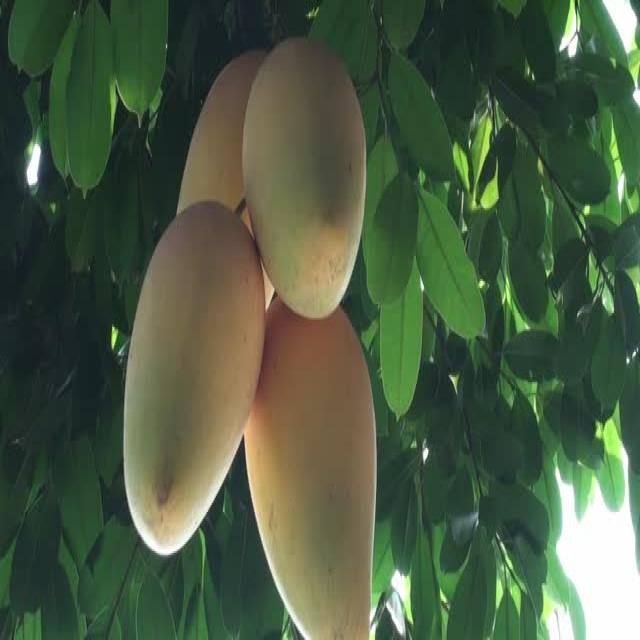mango: (124, 204, 265, 554), (245, 298, 376, 637), (242, 38, 366, 318)
